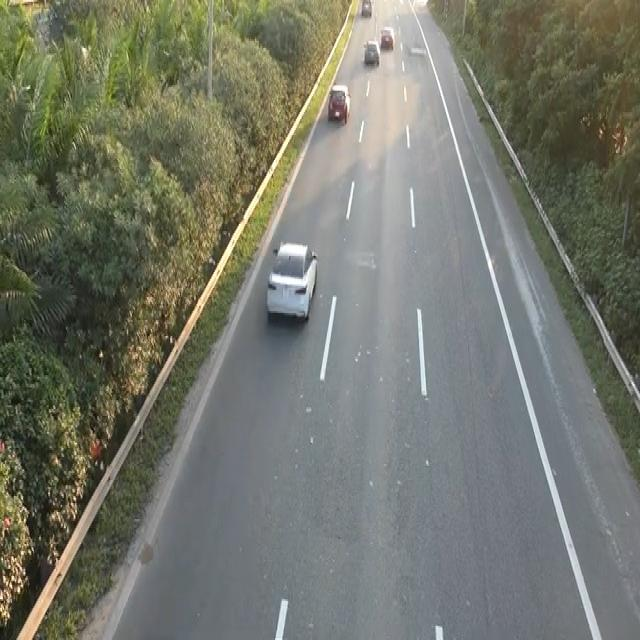bus: (263, 237, 321, 331), (327, 82, 351, 124)
